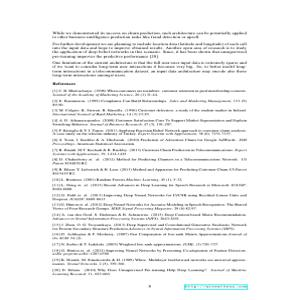text: (49, 30, 249, 277)
